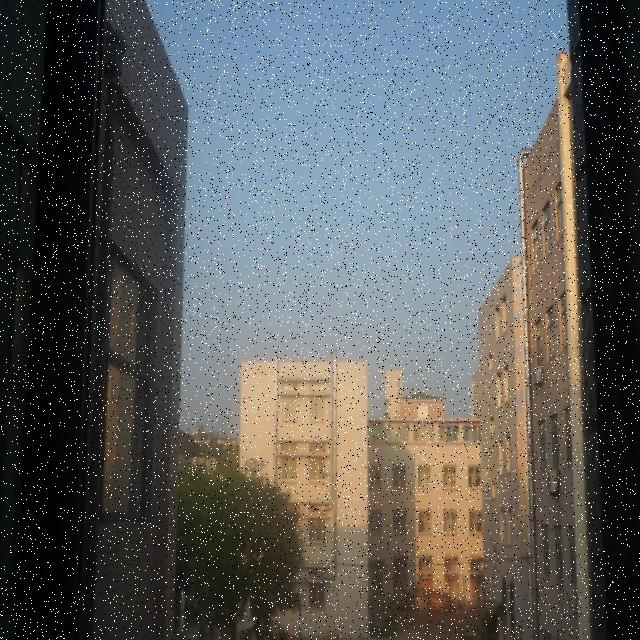UAV: (322, 471, 331, 480)
